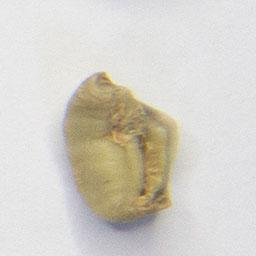defect: (57, 69, 184, 228)
